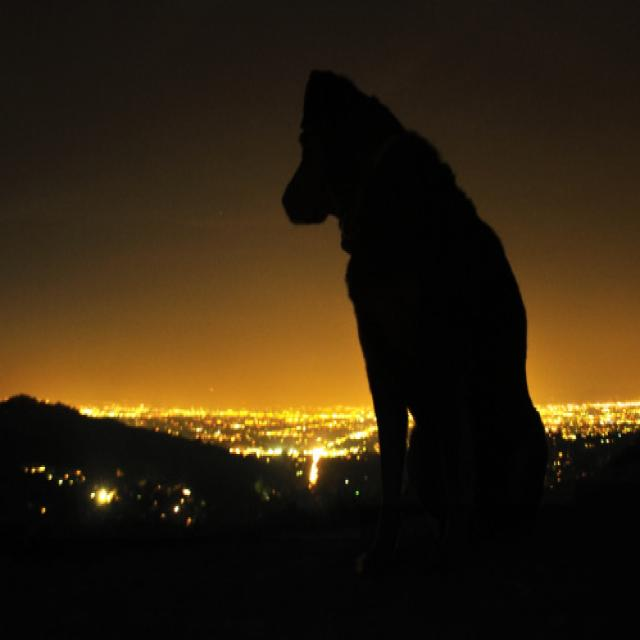Dog: (230, 101, 602, 528)
